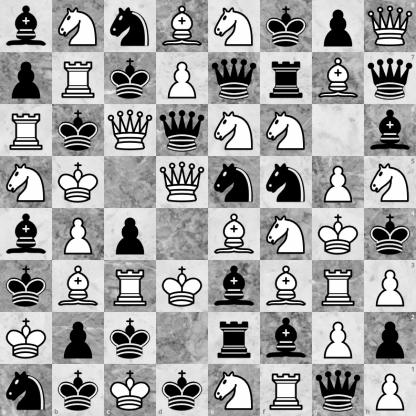B: (53, 261, 104, 312), (157, 1, 208, 52), (209, 209, 260, 260), (261, 261, 312, 312), (313, 53, 364, 104)
K: (104, 364, 156, 416), (1, 313, 52, 364), (53, 157, 104, 208), (157, 261, 208, 312), (313, 209, 364, 260)
N: (364, 156, 416, 209), (209, 364, 260, 416), (1, 157, 52, 208), (53, 1, 104, 52), (209, 1, 260, 52), (209, 105, 260, 156), (261, 105, 312, 156), (261, 209, 312, 260)
P: (364, 260, 416, 312), (364, 364, 416, 416), (53, 209, 104, 260), (157, 53, 208, 104), (313, 157, 364, 208), (313, 313, 364, 364)
Q: (364, 0, 416, 52), (105, 105, 156, 156), (157, 157, 208, 208)
R: (260, 364, 312, 416), (1, 105, 52, 156), (53, 53, 104, 104), (105, 261, 156, 312), (313, 261, 364, 312)
b: (364, 104, 416, 156), (1, 1, 52, 52), (1, 209, 52, 260), (209, 261, 260, 312), (261, 313, 312, 364)
board: (0, 0, 415, 415)
k: (156, 364, 209, 416), (52, 364, 104, 416), (364, 209, 416, 260), (1, 261, 52, 312), (53, 105, 104, 156), (105, 53, 156, 104), (105, 313, 156, 364), (261, 1, 312, 52)
n: (0, 364, 52, 416), (105, 1, 156, 52), (209, 157, 260, 208), (261, 157, 312, 208)
p: (364, 312, 416, 364), (1, 53, 52, 104), (53, 313, 104, 364), (105, 209, 156, 260), (313, 1, 364, 52)
q: (312, 364, 364, 416), (364, 52, 416, 104), (157, 105, 208, 156), (209, 53, 260, 104)
r: (209, 313, 260, 364), (261, 53, 312, 104)
